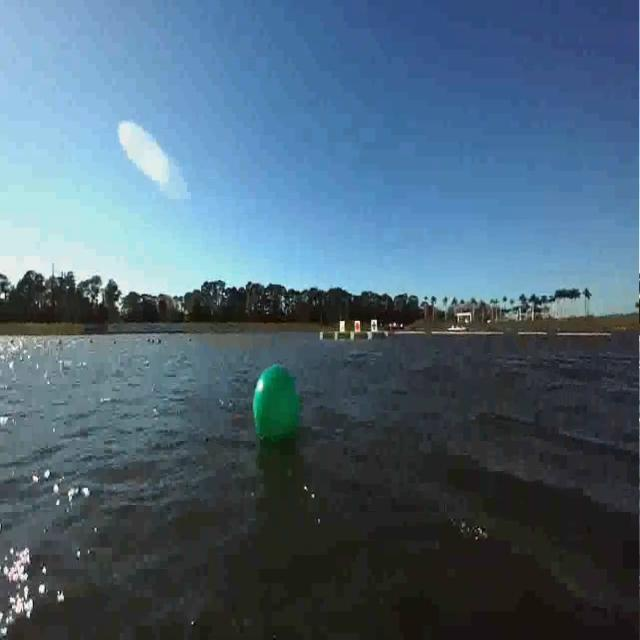green-buoy: (253, 363, 304, 448)
